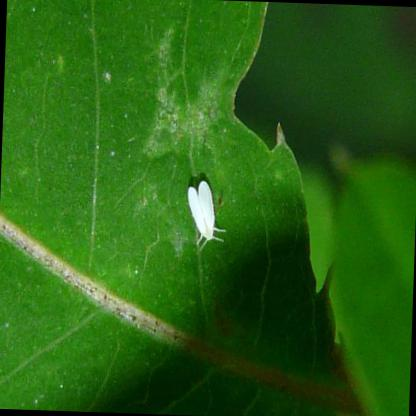whitefly: (187, 181, 215, 238)
